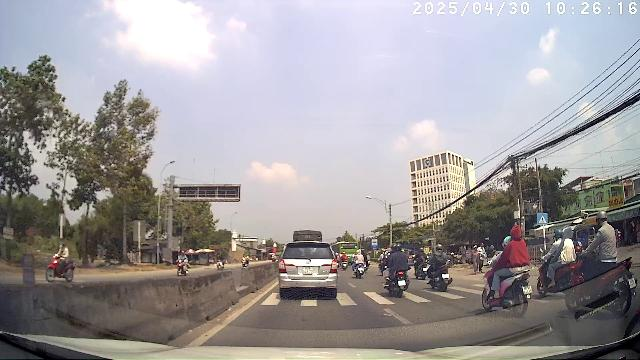423a-duong-nguoi-di-bo-sang-ngang-1: (538, 213, 548, 224)
